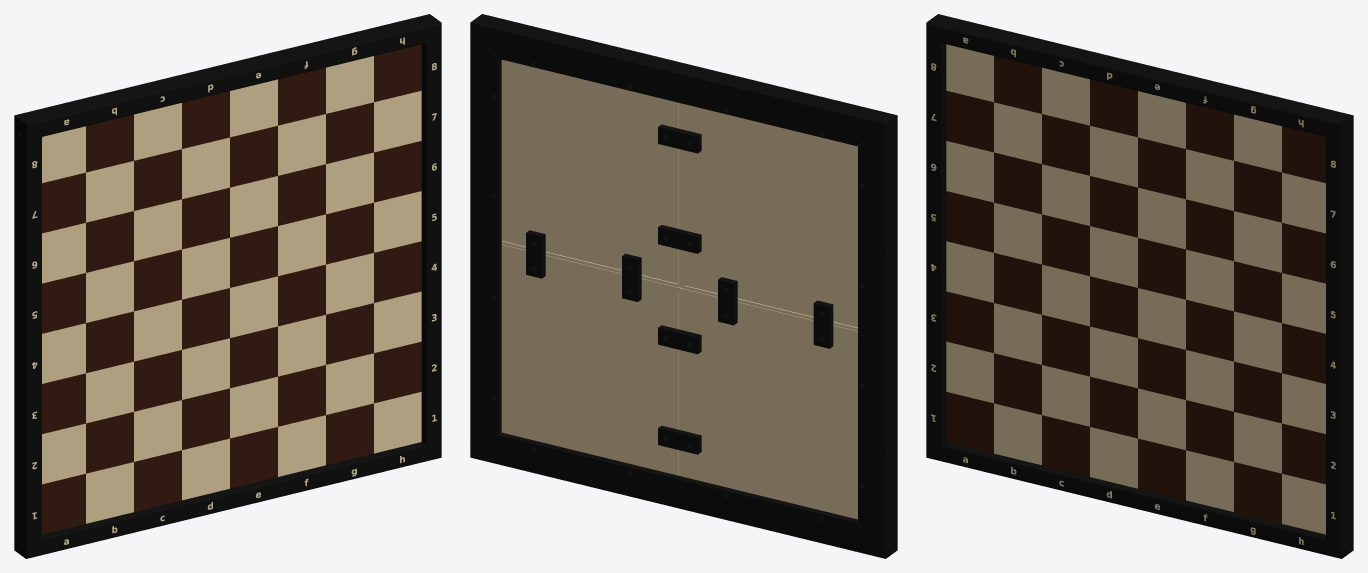
Rendered from .chessboard_assembly.step.glb.
3 views of the same model, side by side, from view 1: azimuth 30°, elevation 25°; view 2: azimuth 150°, elevation 25°; view 3: azimuth 330°, elevation 25° (orthographic).
Visible parts, largest first — view 1: o1.2.1, o1.4.1, o1.1.1, o1.3.1, o1.9.1, o1.10.1, o1.7.1, o1.8.1, o1.11.1, o1.12.1, o1.6.1, o1.5.1 (+33 smaller); view 2: o1.1.1, o1.2.1, o1.3.1, o1.4.1, o1.10.1, o1.9.1, o1.8.1, o1.7.1, o1.11.1, o1.12.1, o1.5.1, o1.6.1 (+9 smaller); view 3: o1.1.1, o1.3.1, o1.2.1, o1.4.1, o1.11.1, o1.12.1, o1.8.1, o1.7.1, o1.9.1, o1.10.1, o1.5.1, o1.6.1 (+33 smaller).
Boxes of the visible parts, x1,y1,x2,y2 form: o1.2.1: (230, 253, 421, 476); o1.4.1: (230, 56, 421, 275); o1.1.1: (42, 300, 229, 523); o1.3.1: (42, 103, 229, 322); o1.9.1: (14, 333, 41, 542); o1.10.1: (14, 132, 41, 341); o1.7.1: (30, 65, 234, 136); o1.8.1: (222, 18, 426, 89); o1.11.1: (421, 241, 441, 444); o1.12.1: (421, 40, 441, 244); o1.6.1: (230, 442, 426, 507); o1.5.1: (42, 489, 234, 554); o1.1.1: (678, 285, 857, 519); o1.2.1: (490, 241, 681, 475); o1.3.1: (678, 103, 865, 327); o1.4.1: (501, 59, 681, 287); o1.10.1: (858, 132, 897, 341); o1.9.1: (858, 333, 897, 547); o1.8.1: (480, 18, 689, 102); o1.7.1: (678, 64, 881, 146); o1.11.1: (470, 240, 501, 449); o1.12.1: (470, 34, 501, 246); o1.5.1: (678, 476, 875, 554); o1.6.1: (480, 432, 681, 507); o1.1.1: (946, 241, 1137, 488); o1.3.1: (946, 44, 1137, 287); o1.2.1: (1138, 288, 1325, 534); o1.4.1: (1138, 91, 1325, 333); o1.11.1: (1326, 333, 1353, 542); o1.12.1: (1326, 132, 1353, 341); o1.8.1: (1133, 65, 1337, 136); o1.7.1: (941, 18, 1145, 89); o1.9.1: (926, 241, 946, 444); o1.10.1: (926, 40, 946, 244); o1.5.1: (941, 442, 1137, 507); o1.6.1: (1133, 489, 1325, 554).
Bounding box in the file's own units: 0.52 × 0.52 × 0.0276.
